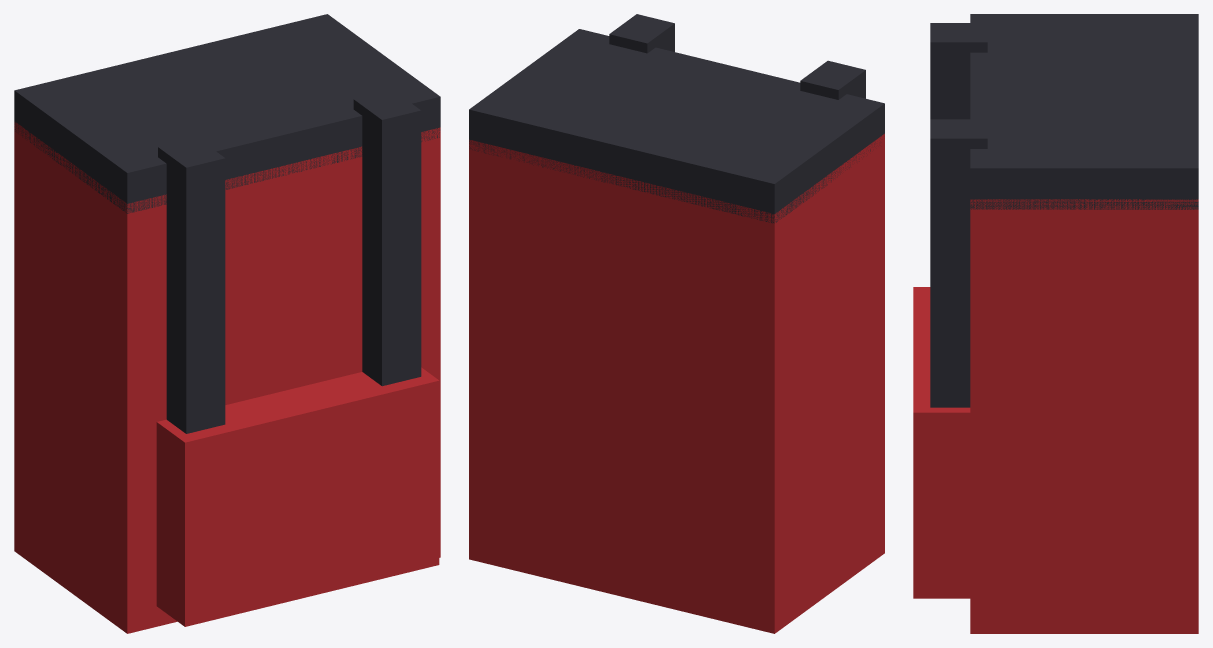
Rendered from backpack.fbx.
3 views of the same model, side by side, from view 1: azimuth 30°, elevation 25°; view 2: azimuth 150°, elevation 25°; view 3: azimuth 270°, elevation 25° (orthographic). The views are drawn at different scales.
Visible parts, largest first — view 1: backpack; view 2: backpack; view 3: backpack.
Boxes of the visible parts, bbox=[...] form: backpack: bbox=[14, 14, 440, 633]; backpack: bbox=[469, 14, 884, 633]; backpack: bbox=[913, 14, 1198, 633].
Bounding box in the file's own units: 0.32 × 0.46 × 0.25.
